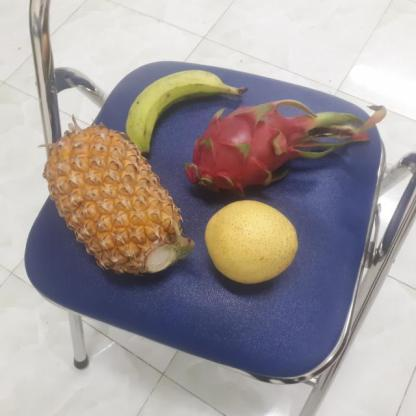banana: (121, 70, 235, 155)
pear: (200, 200, 299, 287)
pineapple: (45, 128, 188, 276)
pitaya: (183, 102, 308, 201)
